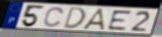2: (130, 10, 152, 33)
5: (20, 4, 46, 28)
A: (81, 8, 107, 32)
C: (42, 6, 66, 28)
D: (62, 6, 87, 30)
E: (107, 10, 134, 31)
